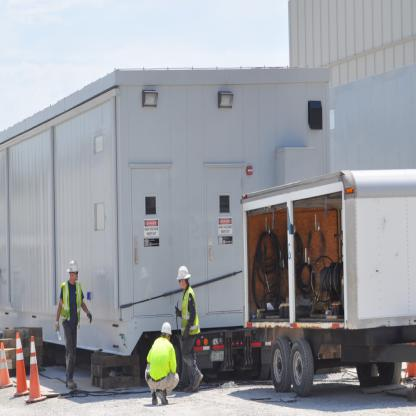Truck: (194, 161, 406, 402)
